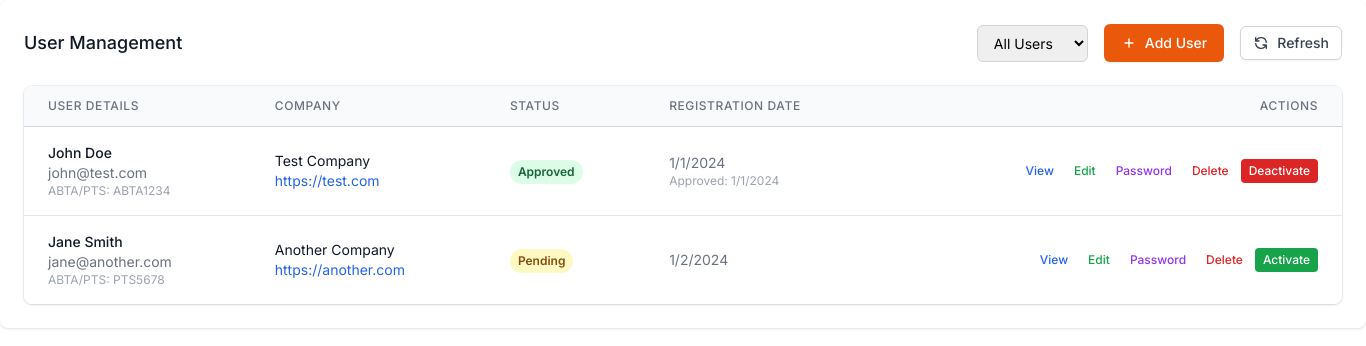
it: UserManagement › handles deactivation error gracefully
Expected: the text "John Doe" is shown, [48,144,112,161]
Click the button "Deactivate": x=1279, y=171 [1241,159,1318,183]
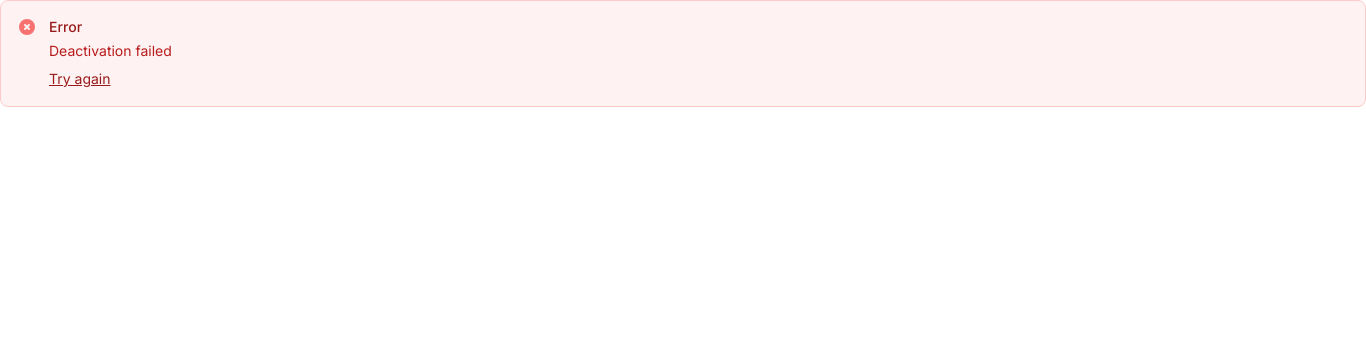
Result: the text "Deactivation failed" is shown at [49,41,172,61]
